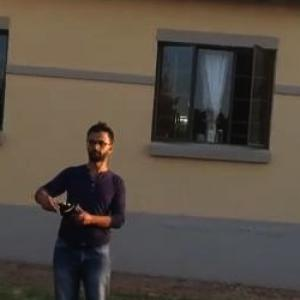follow: (20, 114, 132, 299)
